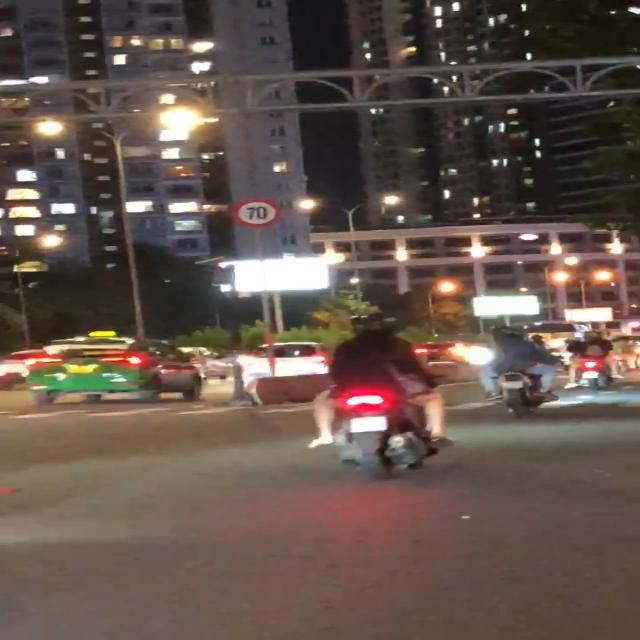Bien bao toc do toi da cho phep: (229, 197, 280, 230)
